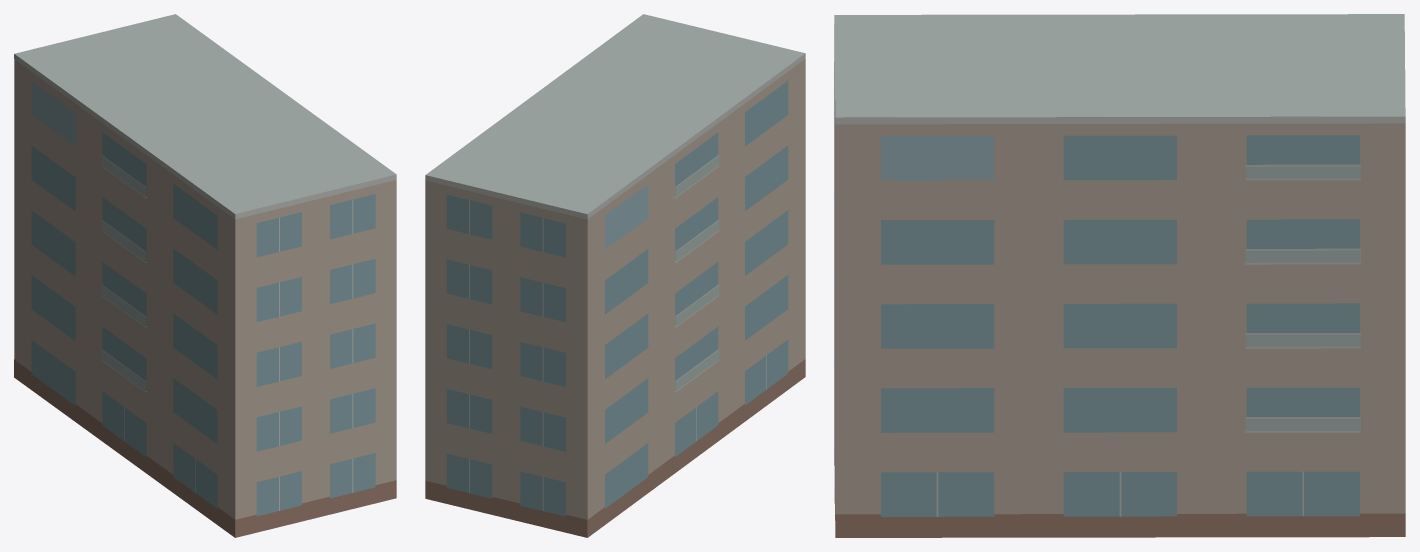
Rendered from survey-upis-33006341.glb.
3 renders of one model, left to right at view 1: azimuth 30°, elevation 25°; view 2: azimuth 150°, elevation 25°; view 3: azimuth 270°, elevation 25°, orthographic. The views are drawn at different scales.
Visible parts, largest first — view 1: survey-upis-33006341.tmp; view 2: survey-upis-33006341.tmp; view 3: survey-upis-33006341.tmp.
Part boxes in pixels (box(x1,y1,x2,y2)): survey-upis-33006341.tmp: box(14, 14, 396, 537); survey-upis-33006341.tmp: box(425, 14, 805, 537); survey-upis-33006341.tmp: box(834, 14, 1405, 537).
Bounding box in the file's own units: 7.91 × 14.95 × 18.42.
